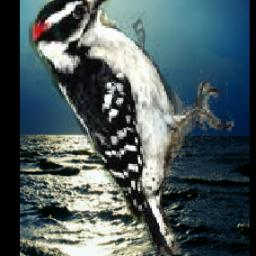Woodpecker: (30, 0, 235, 256)
